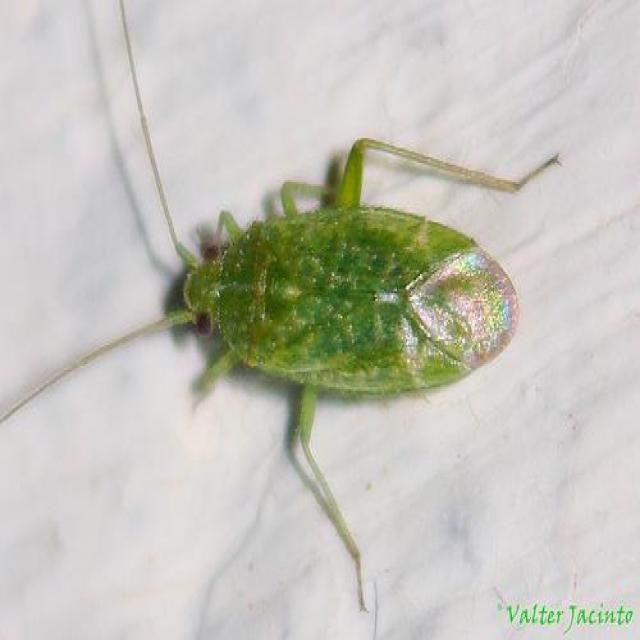Miridae-Adult-: (78, 9, 584, 525)
